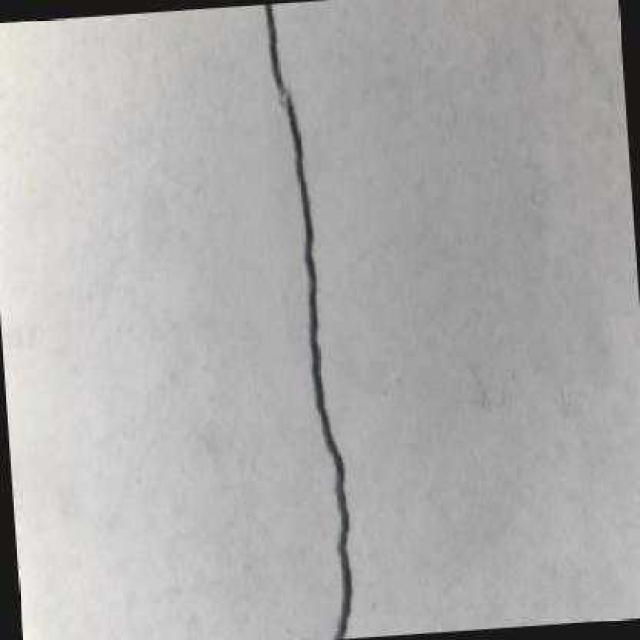D00: (254, 2, 354, 640)
